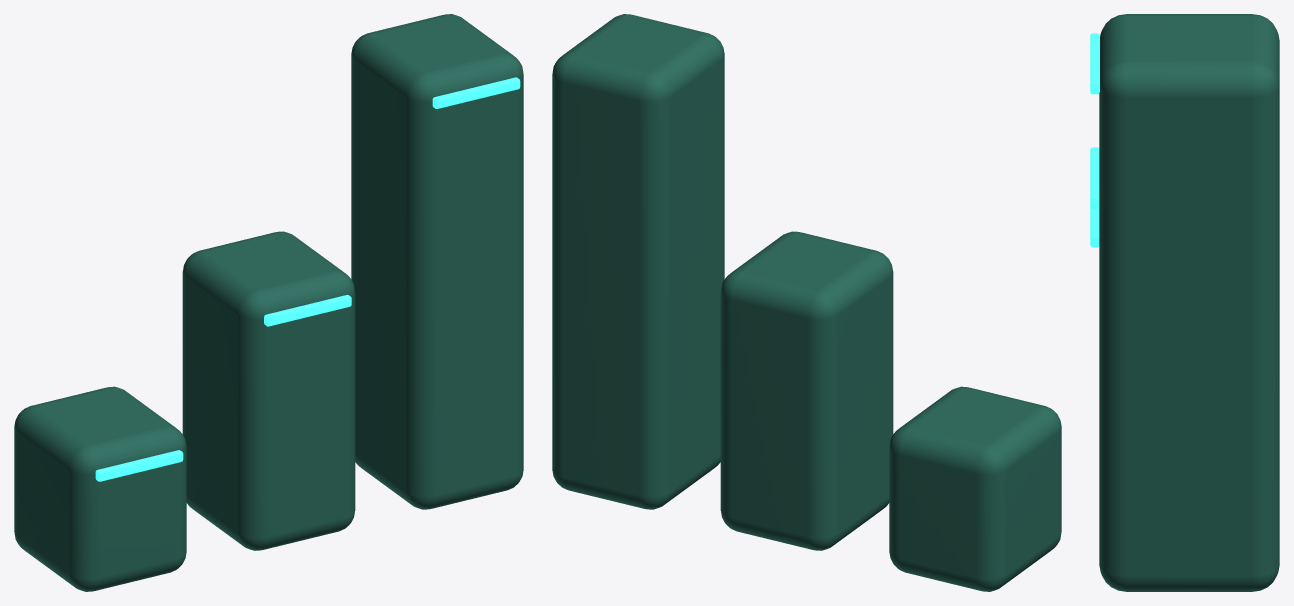
Rendered from budgets.glb.
3 views of the same model, side by side, from view 1: azimuth 30°, elevation 25°; view 2: azimuth 150°, elevation 25°; view 3: azimuth 270°, elevation 25° (orthographic). The views are drawn at different scales.
Parts seen in each view (by area): view 1: Budget pillar 2, Budget pillar 1, Budget pillar 0, Pillar light, Pillar light.002, Pillar light.001; view 2: Budget pillar 2, Budget pillar 1, Budget pillar 0; view 3: Budget pillar 2, Pillar light.002, Pillar light.001, Pillar light.
Boxes of the visible parts, left/top/right/bottom form: Budget pillar 2: left=351, top=14, right=523, bottom=509; Budget pillar 1: left=182, top=231, right=355, bottom=550; Budget pillar 0: left=14, top=386, right=186, bottom=591; Pillar light: left=95, top=450, right=183, bottom=481; Pillar light.002: left=432, top=77, right=520, bottom=108; Pillar light.001: left=264, top=295, right=351, bottom=326; Budget pillar 2: left=552, top=14, right=724, bottom=509; Budget pillar 1: left=720, top=231, right=893, bottom=550; Budget pillar 0: left=889, top=386, right=1061, bottom=591; Budget pillar 2: left=1099, top=14, right=1279, bottom=591; Pillar light.002: left=1090, top=33, right=1099, bottom=94; Pillar light.001: left=1090, top=147, right=1099, bottom=208; Pillar light: left=1090, top=207, right=1099, bottom=247.
Bounding box in the file's own units: 2.28 × 2.1 × 0.6825.
